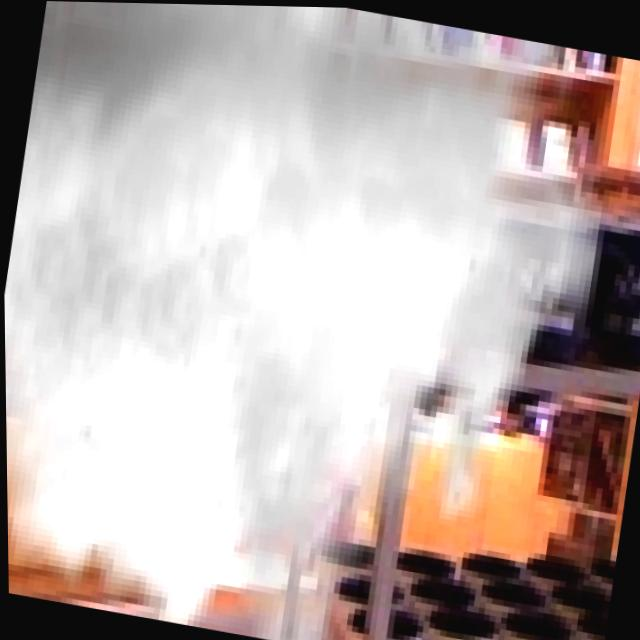smoke: (0, 0, 636, 640)
